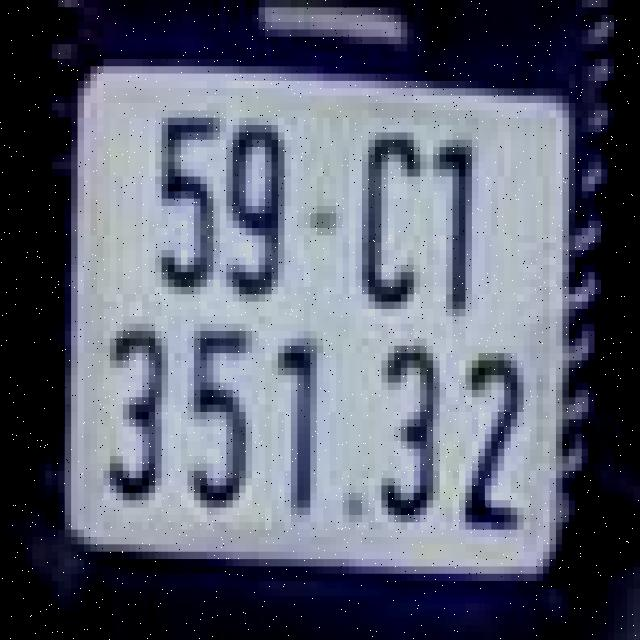1: (262, 305, 339, 526), (430, 125, 494, 324)
2: (459, 327, 537, 548)
3: (97, 302, 175, 515), (378, 335, 443, 526)
5: (184, 294, 262, 522), (149, 96, 226, 316)
9: (220, 107, 304, 305)
C: (342, 110, 427, 316)
